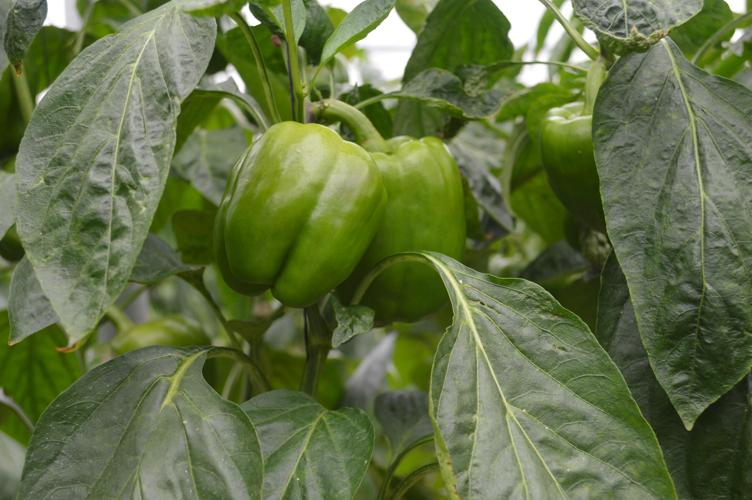BellPepper: (210, 122, 385, 305), (332, 138, 461, 320), (535, 102, 605, 233)
